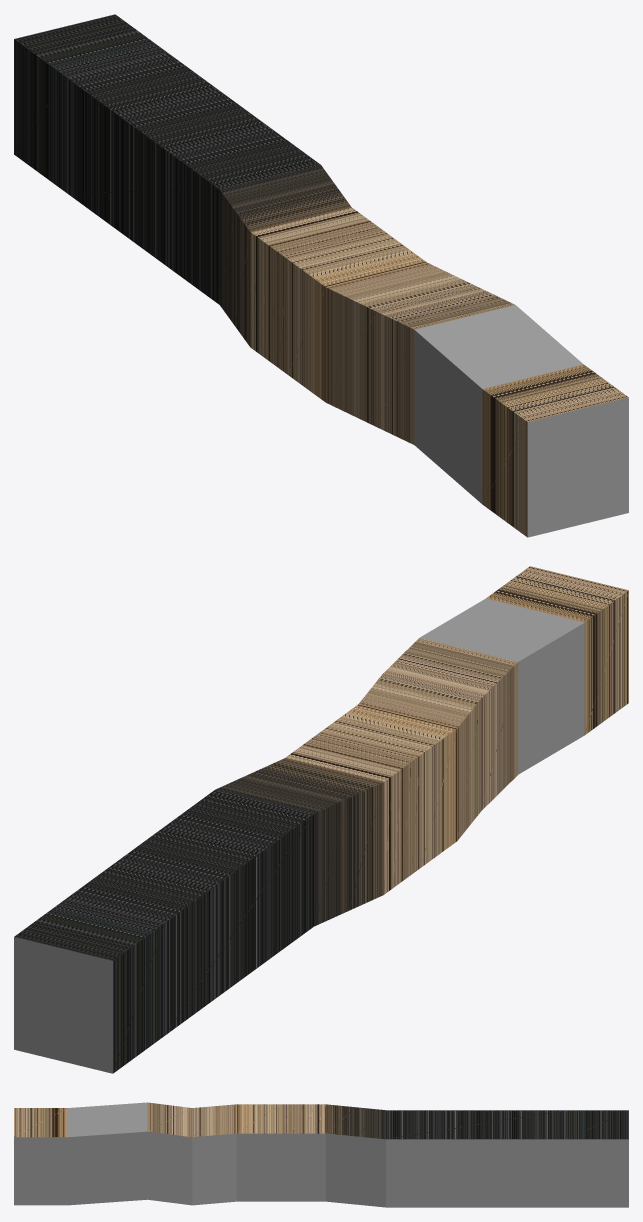
File: someShit15.obj
3 views of the same model, one above another, from view 1: azimuth 30°, elevation 25°; view 2: azimuth 150°, elevation 25°; view 3: azimuth 270°, elevation 25° (orthographic). The views are drawn at different scales.
Visible parts, largest first — view 1: Plane.015_Plane.016; view 2: Plane.015_Plane.016; view 3: Plane.015_Plane.016.
Part boxes in pixels (box(x1,y1,x2,y2)): Plane.015_Plane.016: box(14, 14, 628, 537); Plane.015_Plane.016: box(14, 566, 628, 1073); Plane.015_Plane.016: box(14, 1102, 628, 1207).
Bounding box in the file's own units: 93.09 × 91.38 × 690.
Materials: 4 (3 with a texture image).
